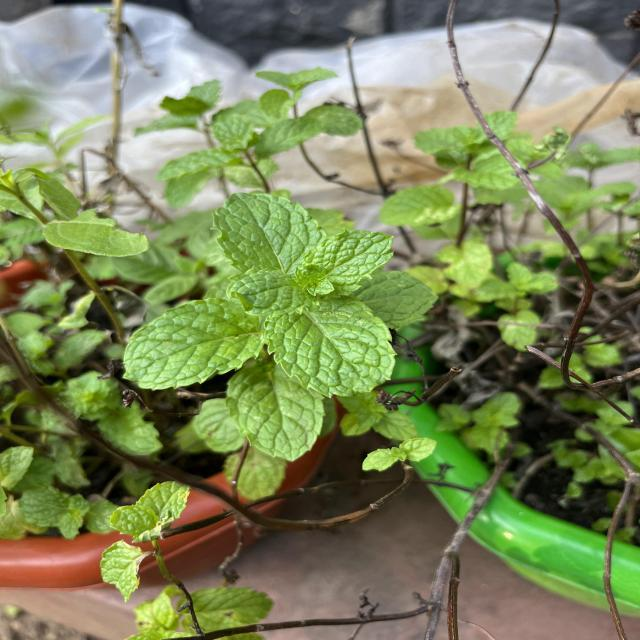Mentha spicata: (262, 296, 400, 400), (120, 296, 266, 392), (225, 364, 328, 462), (209, 191, 329, 273), (300, 227, 396, 300)
